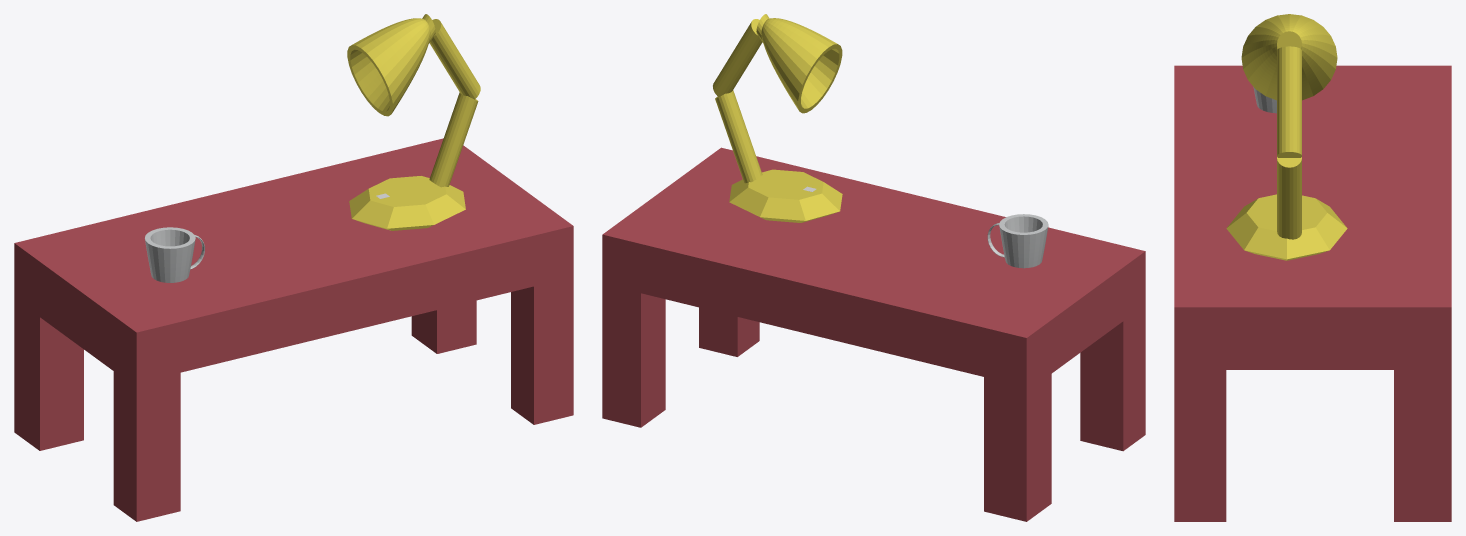
Rendered from Coffee Table.glb.
3 views of the same model, side by side, from view 1: azimuth 30°, elevation 25°; view 2: azimuth 150°, elevation 25°; view 3: azimuth 270°, elevation 25° (orthographic). The views are drawn at different scales.
Visible parts, largest first — view 1: Mesh_Mesh_head_geo.001_lambert2SG.001; view 2: Mesh_Mesh_head_geo.001_lambert2SG.001; view 3: Mesh_Mesh_head_geo.001_lambert2SG.001.
Part boxes in pixels (x1,y1,x2,y2): Mesh_Mesh_head_geo.001_lambert2SG.001: [14, 14, 573, 521]; Mesh_Mesh_head_geo.001_lambert2SG.001: [602, 14, 1145, 521]; Mesh_Mesh_head_geo.001_lambert2SG.001: [1174, 14, 1451, 521].
Size of the model in its own units: 99 by 83.69 by 48.
